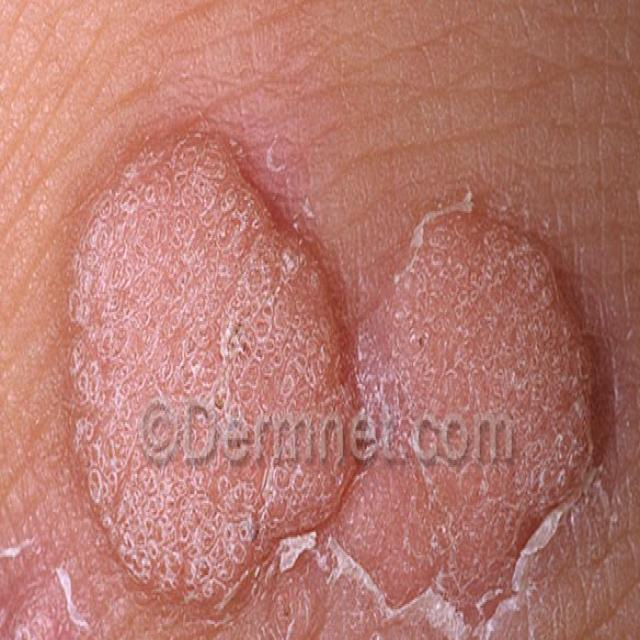Warts: (57, 126, 640, 629), (0, 560, 110, 640)
